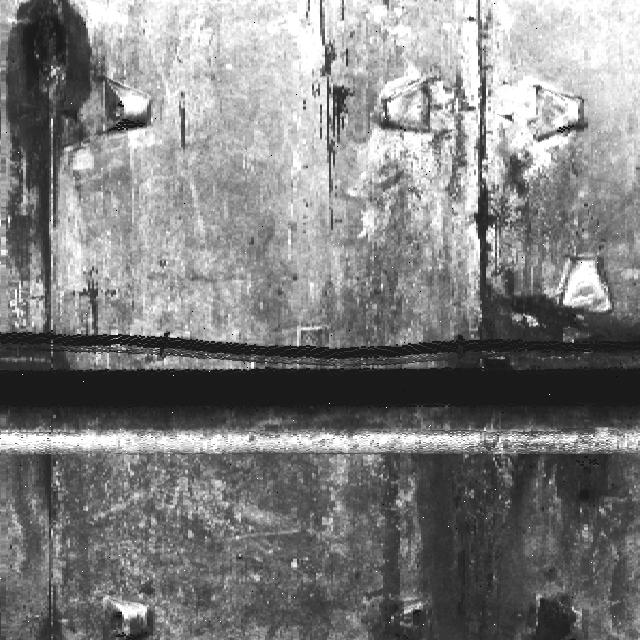leakage: (405, 434, 559, 637), (0, 0, 95, 296), (443, 281, 639, 373)
